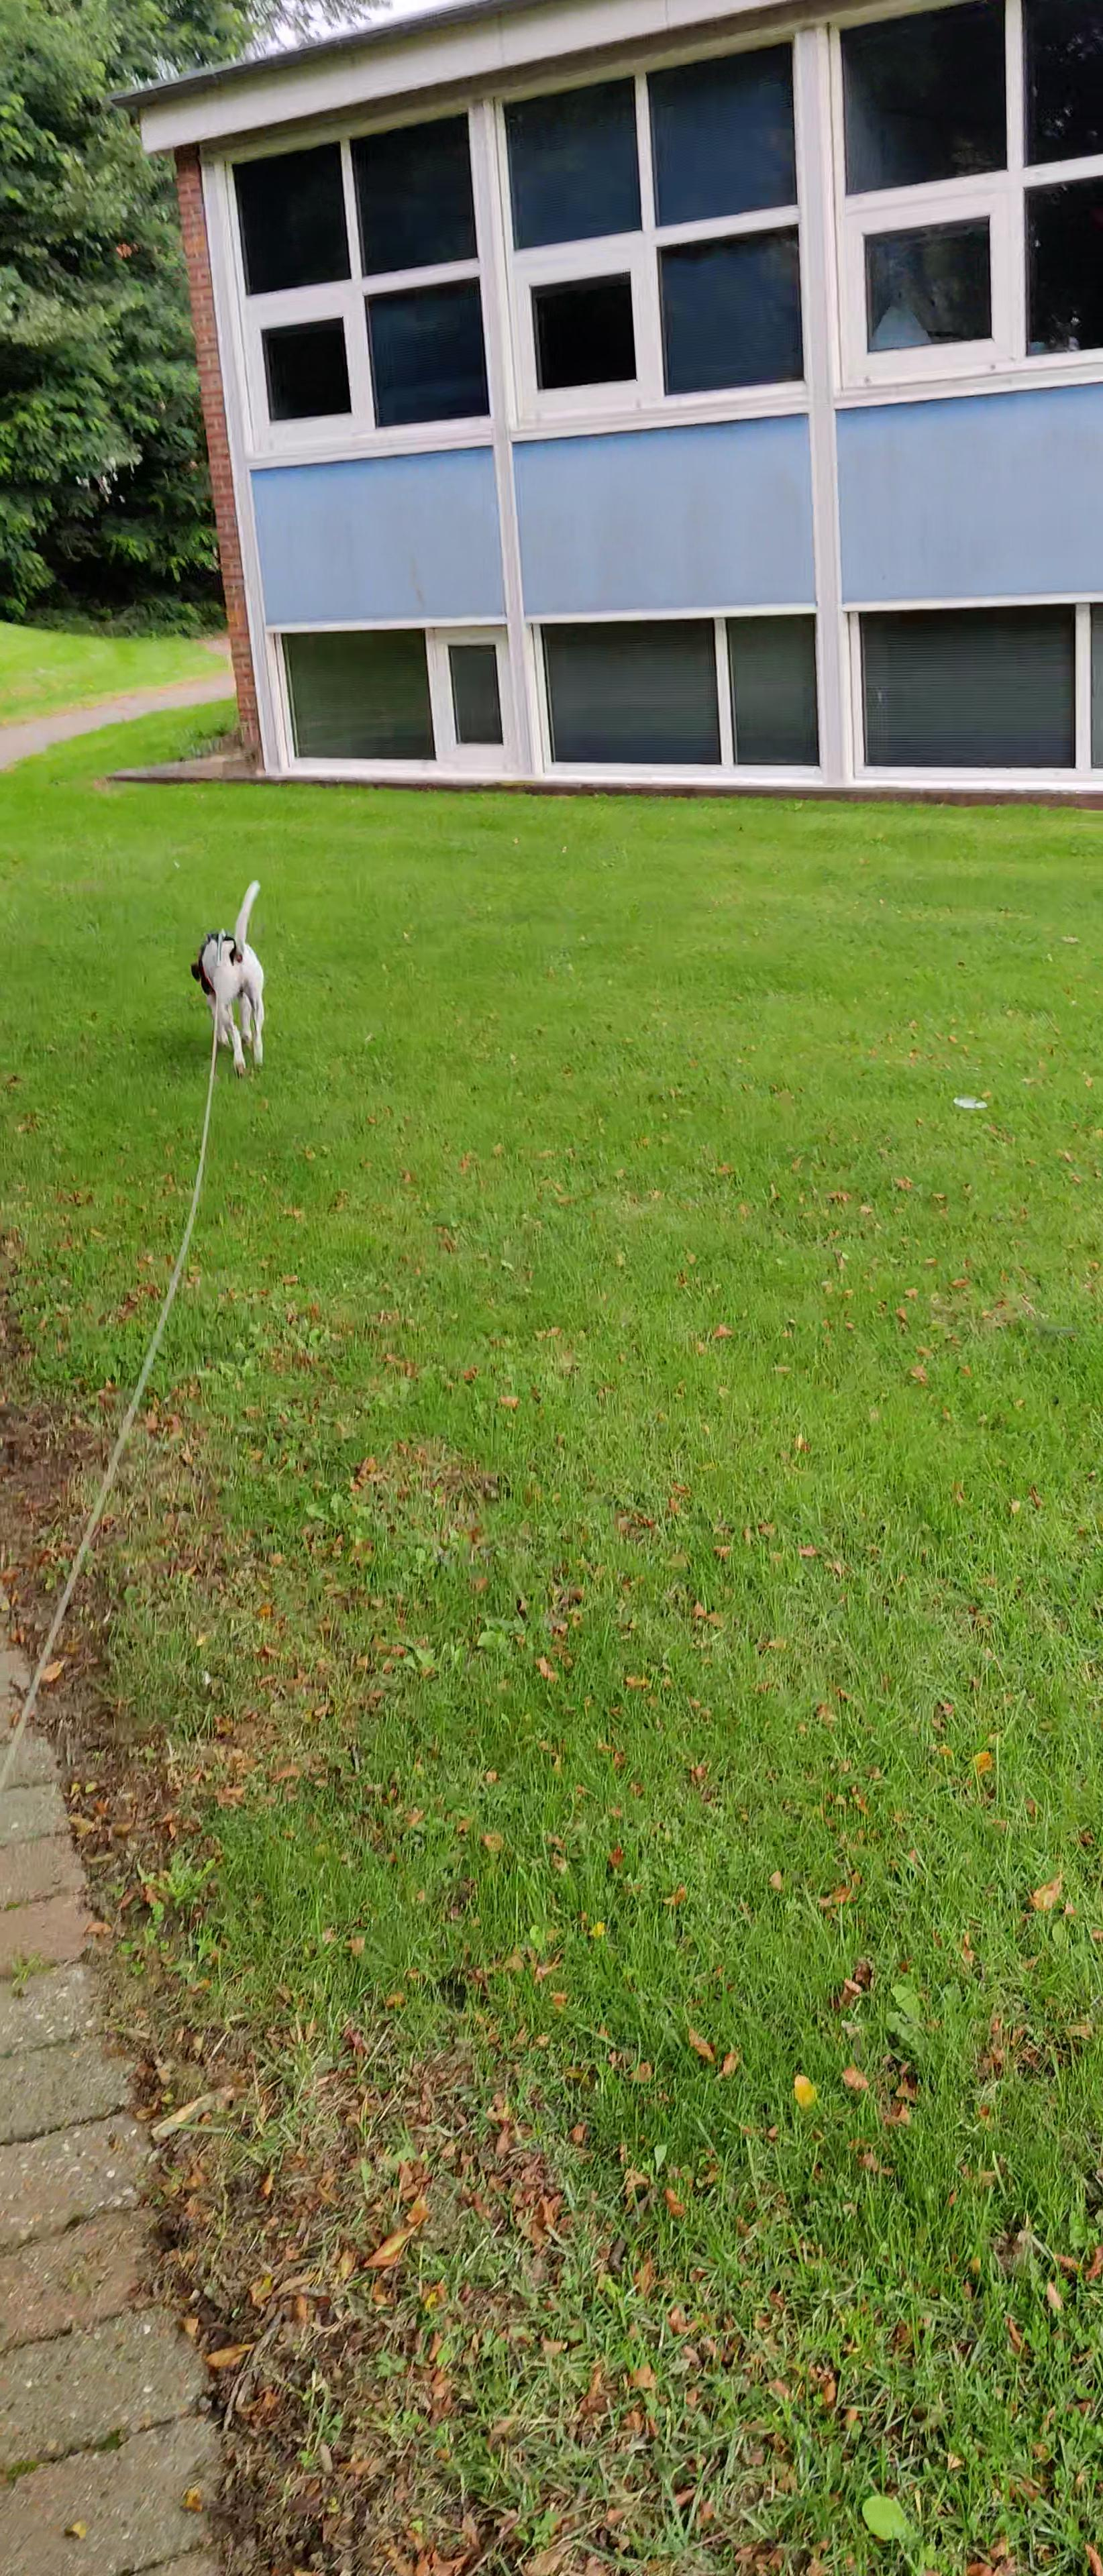Dog: (186, 874, 278, 1081)
